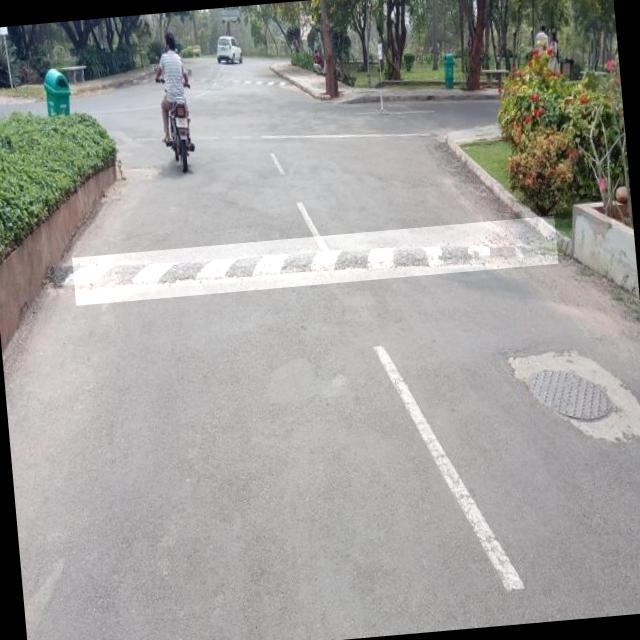bump: (72, 215, 558, 305)
